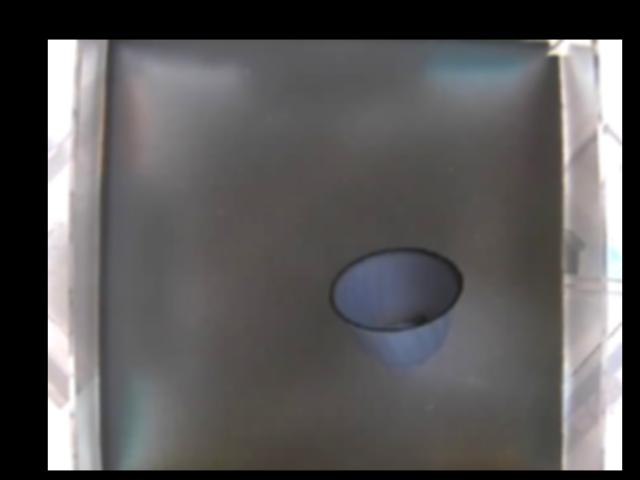Cup: (329, 247, 464, 366)
